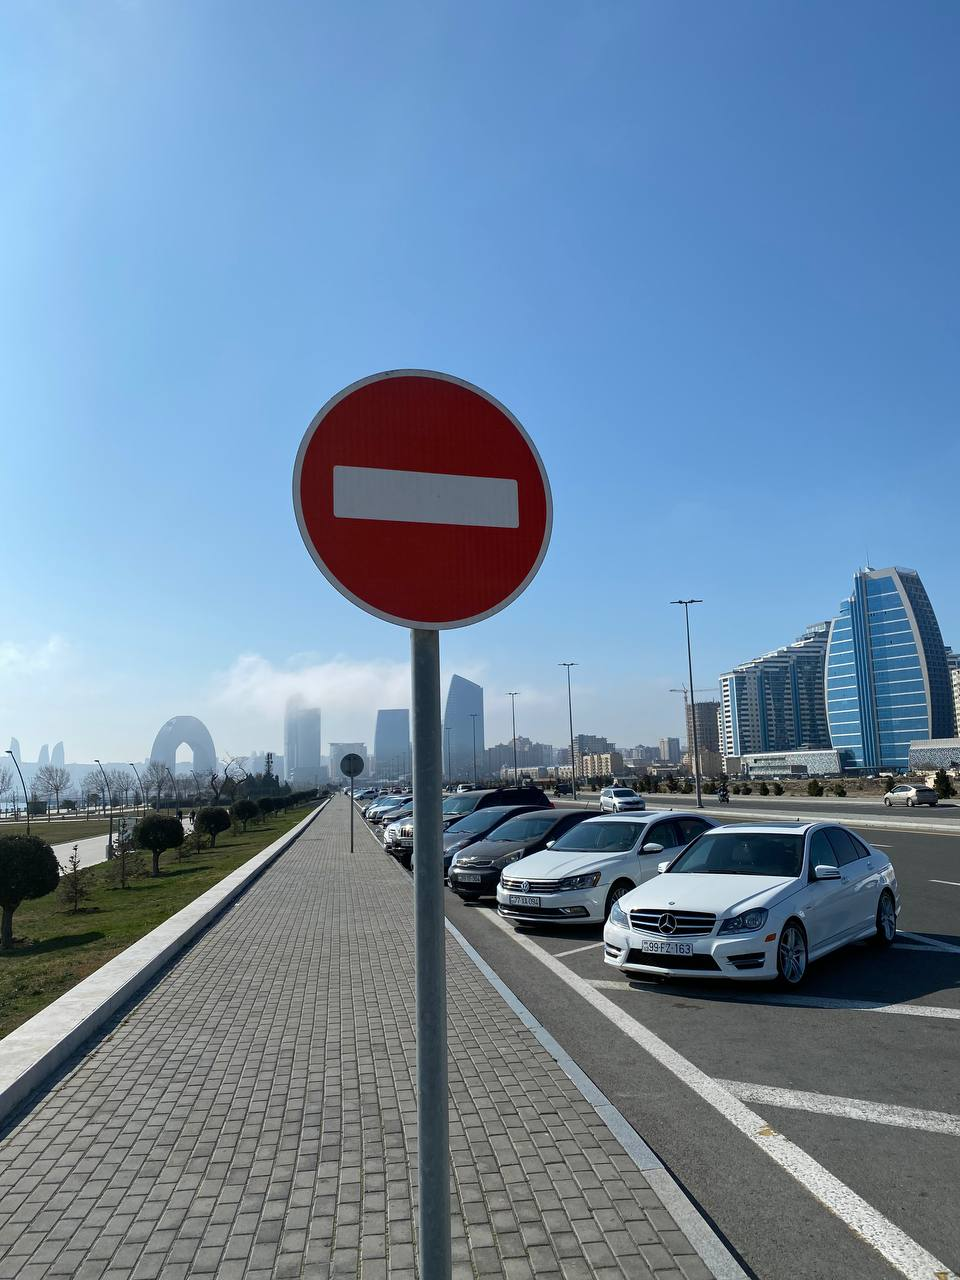No Entry: (291, 368, 555, 632)
